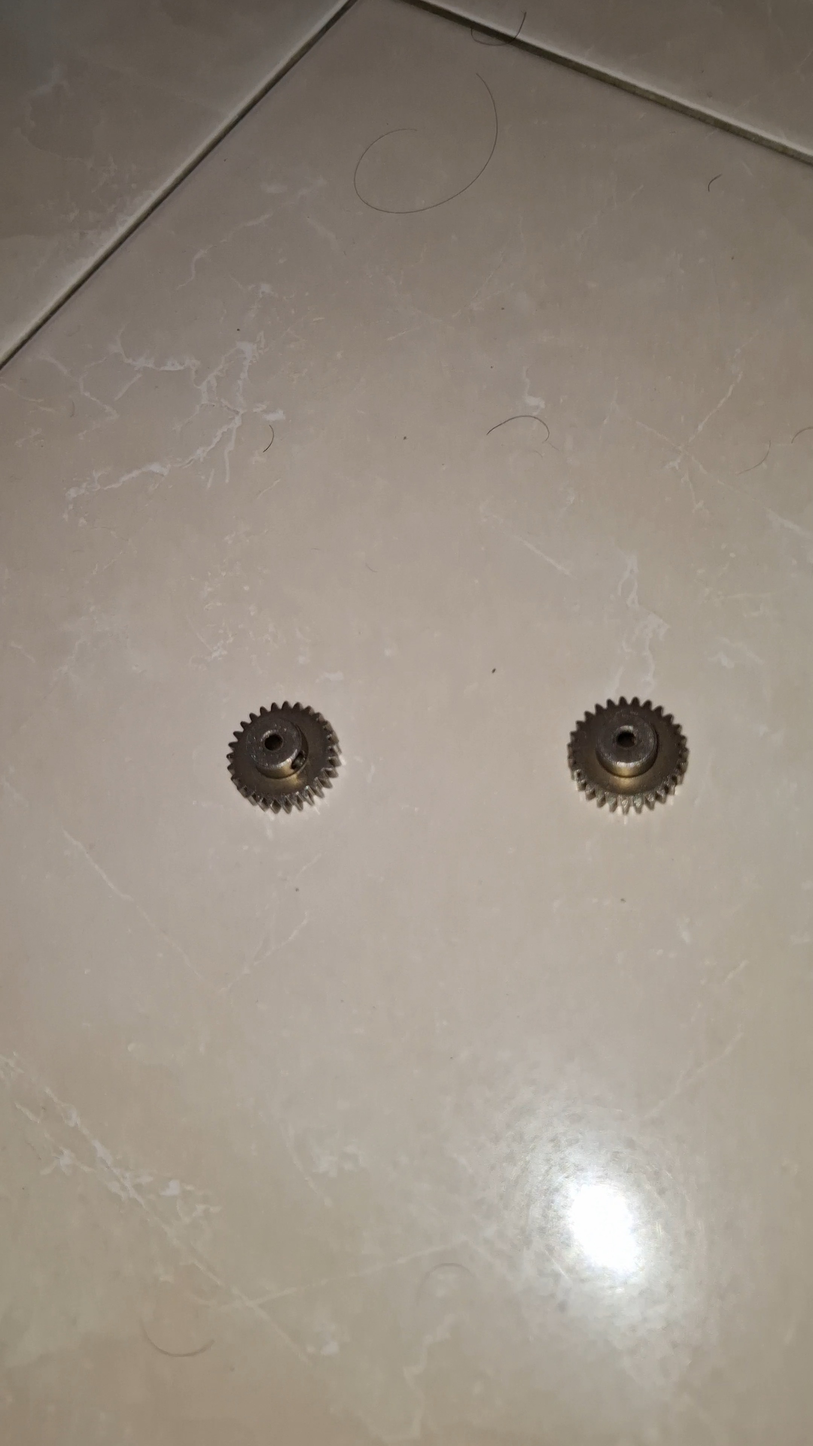spur gear: (568, 697, 688, 813), (228, 702, 340, 812)
